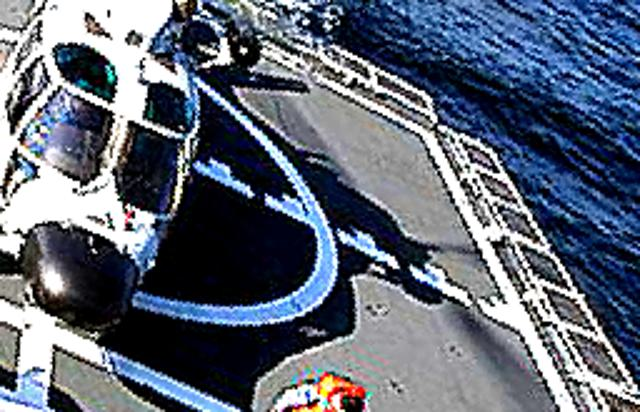Apron: (1, 15, 356, 336)
